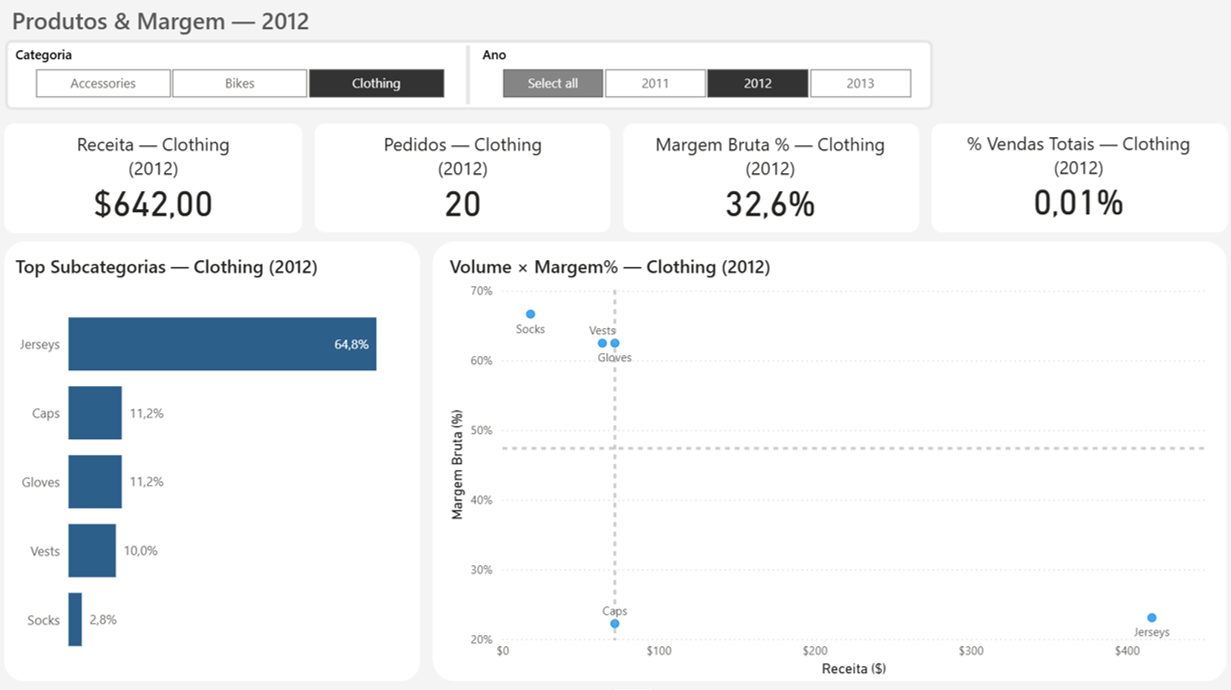

The page's visual inventory and layout, read from the dashboard file:
{"tool":"powerbi","page":{"name":"Produtos & Margem","canvas":[1280,720],"ordinal":1},"visuals":[{"type":"shape","box":[449.6,255,821.1,455.1],"z":0},{"type":"shape","box":[6.9,255,430.4,455.1],"z":1000},{"type":"shape","box":[327.5,132.9,306.2,113],"z":2000},{"type":"shape","box":[646.5,132.9,306.2,113],"z":3000},{"type":"shape","box":[965.5,132.9,306.2,113],"z":4000},{"type":"shape","box":[6.9,133,308.4,113.8],"z":5000},{"type":"shape","box":[7.3,46.8,959.2,72.7],"z":6000},{"type":"slicer","title":"Ano","fields":{"Values":["date_dim.Year"]},"box":[496.8,52,471.8,60.3],"z":7000},{"type":"slicer","title":"Categoria","fields":{"Values":["Selector Category.forced_category"]},"box":[13.5,52,471.8,60.3],"z":8000},{"type":"textbox","box":[10,10,534.2,38.5],"z":9000},{"type":"card","fields":{"Values":["00_Measures.KPI Sales (Selector)"]},"box":[54,141.6,213.6,97.2],"z":10000},{"type":"card","fields":{"Values":["00_Measures.KPI Orders (Selector)"]},"box":[379.2,141.6,204,97.2],"z":11000},{"type":"card","fields":{"Values":["00_Measures.KPI Margin % (Selector)"]},"box":[662.3,141.6,273.6,97.2],"z":12000},{"type":"clusteredBarChart","fields":{"Category":["gold dim_products.subcategory"],"Y":["00_Measures.% Sales In Category (Selector)"]},"box":[13.2,267.6,424.7,441.5],"z":13000},{"type":"card","fields":{"Values":["00_Measures.KPI • Share of Total Sales (Selector)"]},"box":[969.5,140.4,296.4,97.2],"z":14000},{"type":"scatterChart","fields":{"X":["00_Measures.Total Sales By Subcat (Selector)"],"Y":["00_Measures.Gross Margin % By Subcat (Selector)"],"Category":["gold dim_products.subcategory"]},"box":[461.9,267.6,803.9,442.7],"z":15000},{"type":"shape","box":[470.4,52.8,32.4,61.2],"z":16000}]}

Visuals, with their boxes in screenshot pixels (x1, y1, x2, y2), scaled from the page's 1280x720 canvas onto the 1231x690 screenshot:
shape: {"left": 432, "top": 244, "right": 1222, "bottom": 681}
shape: {"left": 7, "top": 244, "right": 421, "bottom": 681}
shape: {"left": 315, "top": 127, "right": 609, "bottom": 236}
shape: {"left": 622, "top": 127, "right": 916, "bottom": 236}
shape: {"left": 929, "top": 127, "right": 1223, "bottom": 236}
shape: {"left": 7, "top": 127, "right": 303, "bottom": 237}
shape: {"left": 7, "top": 45, "right": 930, "bottom": 115}
"Ano" slicer: {"left": 478, "top": 50, "right": 932, "bottom": 108}
"Categoria" slicer: {"left": 13, "top": 50, "right": 467, "bottom": 108}
textbox: {"left": 10, "top": 10, "right": 523, "bottom": 46}
card - 00_Measures.KPI Sales (Selector): {"left": 52, "top": 136, "right": 257, "bottom": 229}
card - 00_Measures.KPI Orders (Selector): {"left": 365, "top": 136, "right": 561, "bottom": 229}
card - 00_Measures.KPI Margin % (Selector): {"left": 637, "top": 136, "right": 900, "bottom": 229}
clusteredBarChart - gold dim_products.subcategory x 00_Measures.% Sales In Category (Selector): {"left": 13, "top": 256, "right": 421, "bottom": 680}
card - 00_Measures.KPI • Share of Total Sales (Selector): {"left": 932, "top": 135, "right": 1217, "bottom": 228}
scatterChart - 00_Measures.Total Sales By Subcat (Selector) x 00_Measures.Gross Margin % By Subcat (Selector): {"left": 444, "top": 256, "right": 1217, "bottom": 681}
shape: {"left": 452, "top": 51, "right": 484, "bottom": 109}
